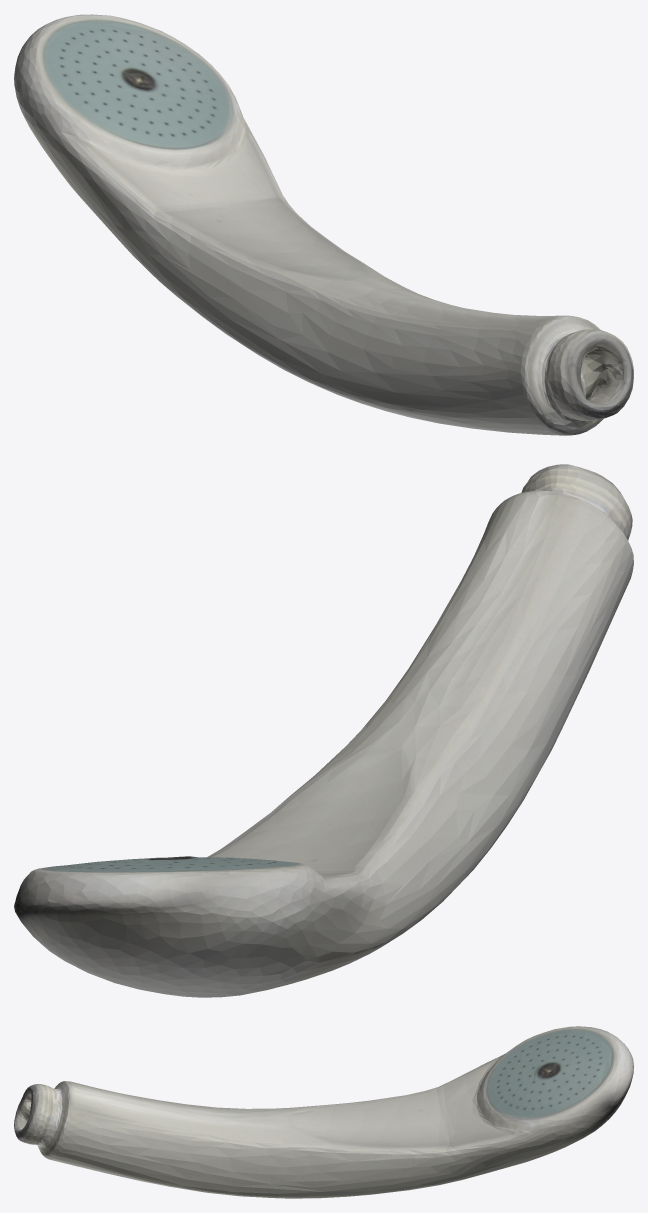
The model's file is export-middle.obj.
3 renders of one model, top to bottom at view 1: azimuth 30°, elevation 25°; view 2: azimuth 150°, elevation 25°; view 3: azimuth 270°, elevation 25°, orthographic. The views are drawn at different scales.
Size of the model in its own units: 56.69 by 48.8 by 206.
Materials: 1 (1 with a texture image).
